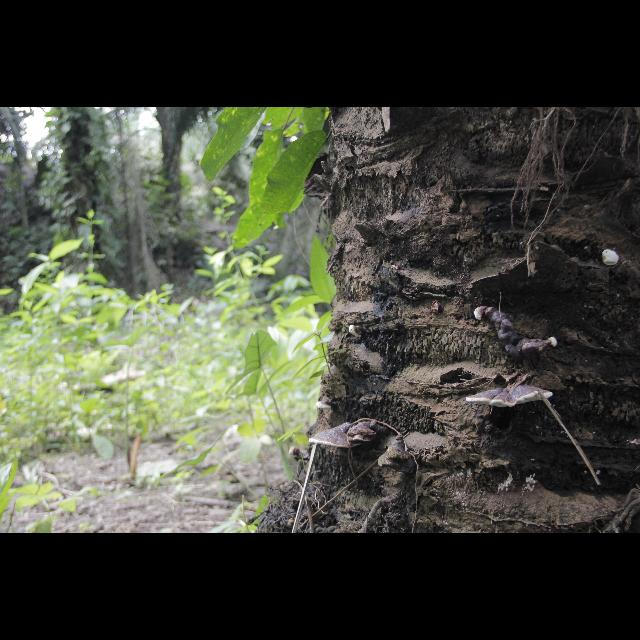ganoderma: (488, 306, 549, 360), (466, 385, 554, 410), (309, 424, 363, 450), (348, 422, 389, 443), (316, 400, 338, 411)
primordium: (603, 251, 621, 268), (350, 326, 366, 340), (475, 307, 487, 322), (289, 448, 302, 458), (550, 337, 559, 349)
